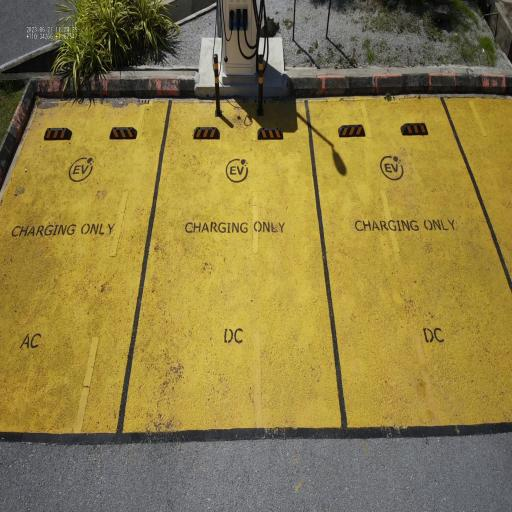Empty: (110, 78, 352, 458)
